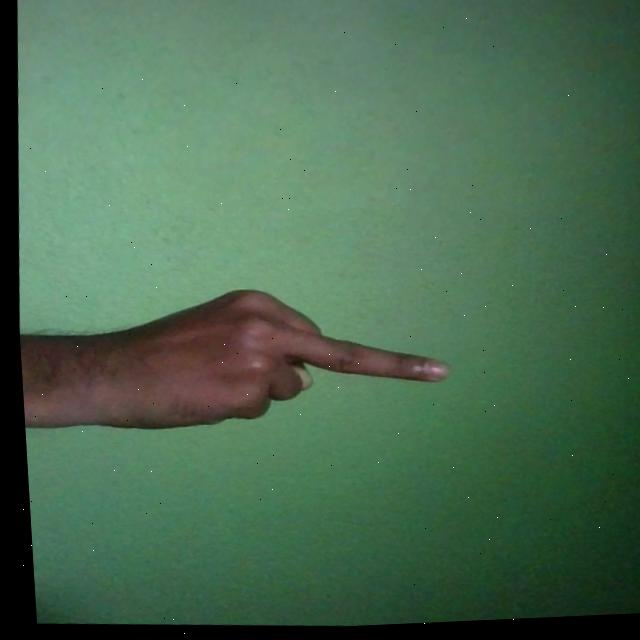Middle Finger: (20, 273, 453, 450)
